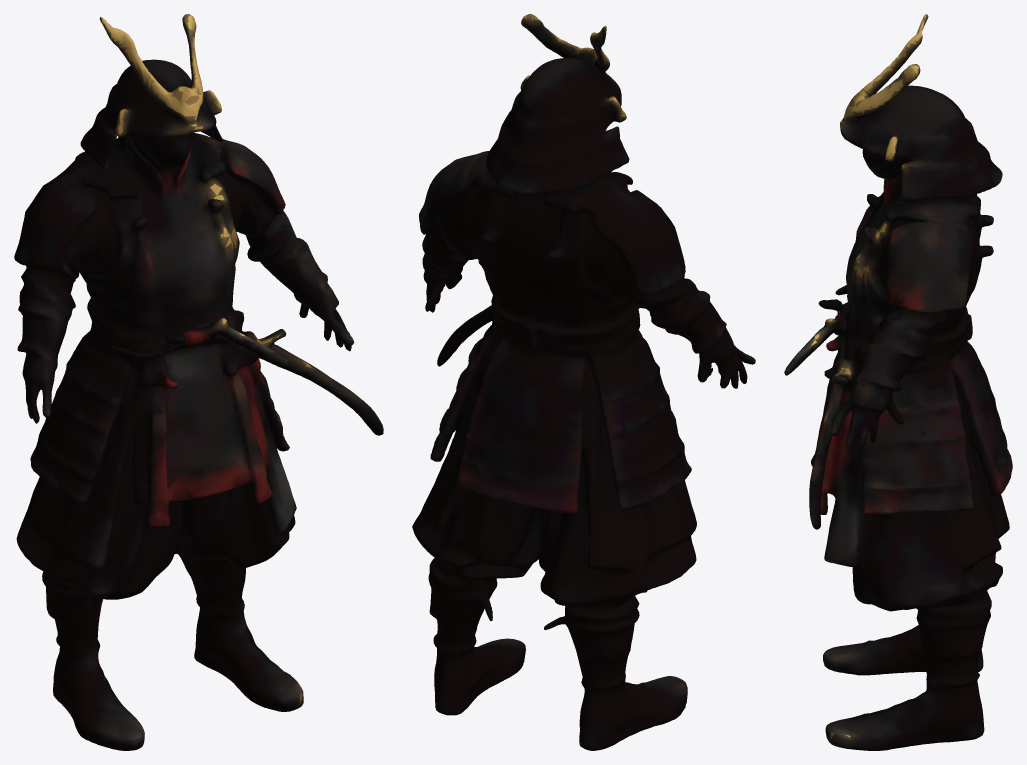
File: samurai.glb
3 renders of one model, left to right at view 1: azimuth 30°, elevation 25°; view 2: azimuth 150°, elevation 25°; view 3: azimuth 270°, elevation 25°, orthographic. The views are drawn at different scales.
Parts seen in each view (by area): view 1: body_armor, head_armor, head_gold; view 2: body_armor, head_armor; view 3: body_armor, head_armor, head_gold, body_gold.
Part boxes in pixels (x1=…): body_armor: x1=14, y1=132, x2=383, y2=750; head_armor: x1=80, y1=14, x2=222, y2=170; head_gold: x1=100, y1=14, x2=221, y2=134; body_armor: x1=412, y1=151, x2=755, y2=750; head_armor: x1=486, y1=14, x2=629, y2=193; body_armor: x1=784, y1=172, x2=1012, y2=750; head_armor: x1=840, y1=14, x2=1002, y2=201; head_gold: x1=840, y1=14, x2=926, y2=170; body_gold: x1=811, y1=223, x2=886, y2=739.
Bounding box in the file's own units: 0.9942 × 2 × 0.6268.
